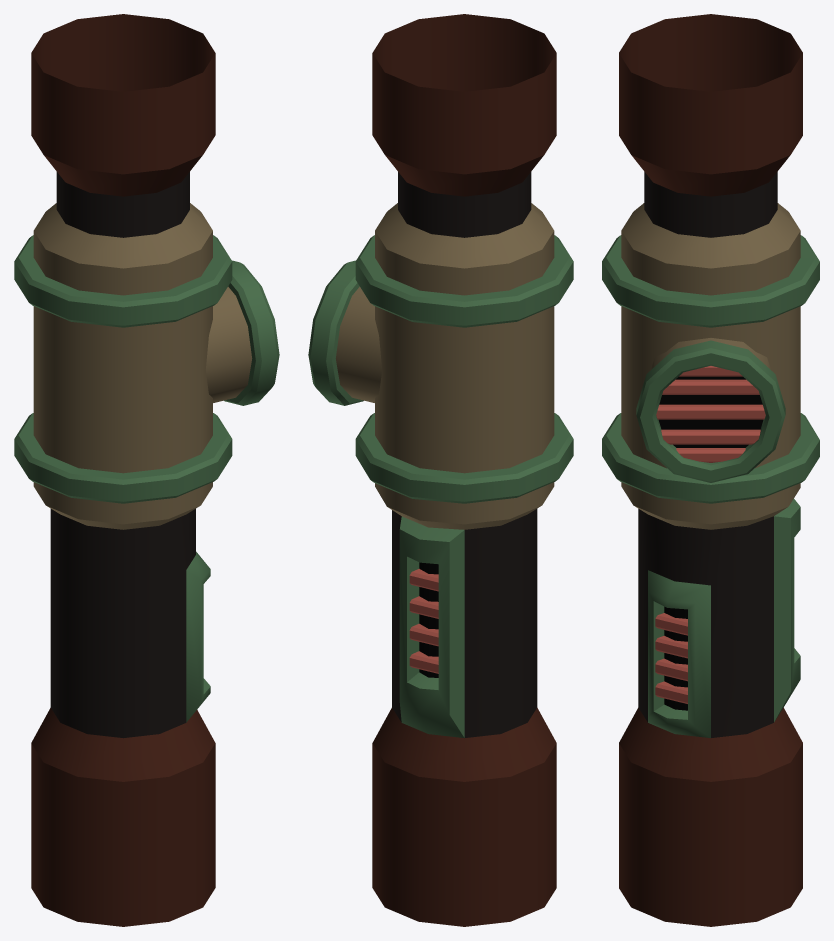
The model's file is OBJ_VAR_3_Tuyau.fbx.
3 views of the same model, side by side, from view 1: azimuth 30°, elevation 25°; view 2: azimuth 150°, elevation 25°; view 3: azimuth 270°, elevation 25° (orthographic).
Visible parts, largest first — view 1: OBJ_VAR_3_Tuyau; view 2: OBJ_VAR_3_Tuyau; view 3: OBJ_VAR_3_Tuyau.
Part boxes in pixels (x1,y1,x2,y2): OBJ_VAR_3_Tuyau: (14,14,279,926); OBJ_VAR_3_Tuyau: (308,14,573,926); OBJ_VAR_3_Tuyau: (602,14,819,926).
Size of the model in its own units: 1618 by 6000 by 1419.
